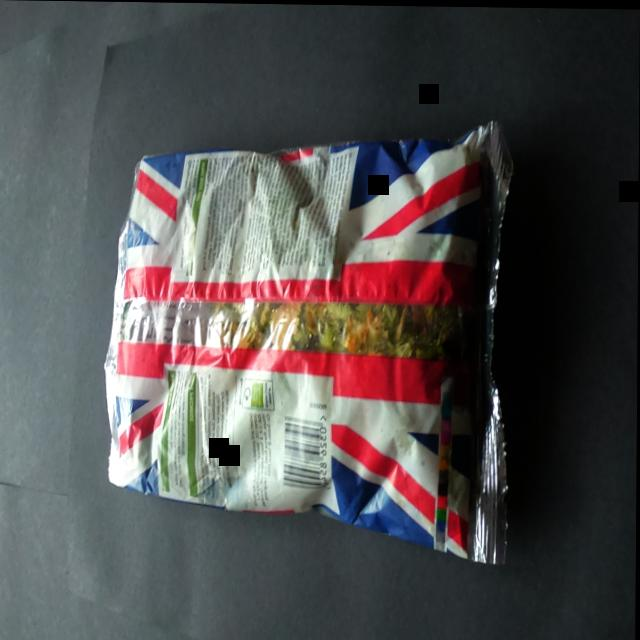Cilantro: (77, 84, 537, 573)
